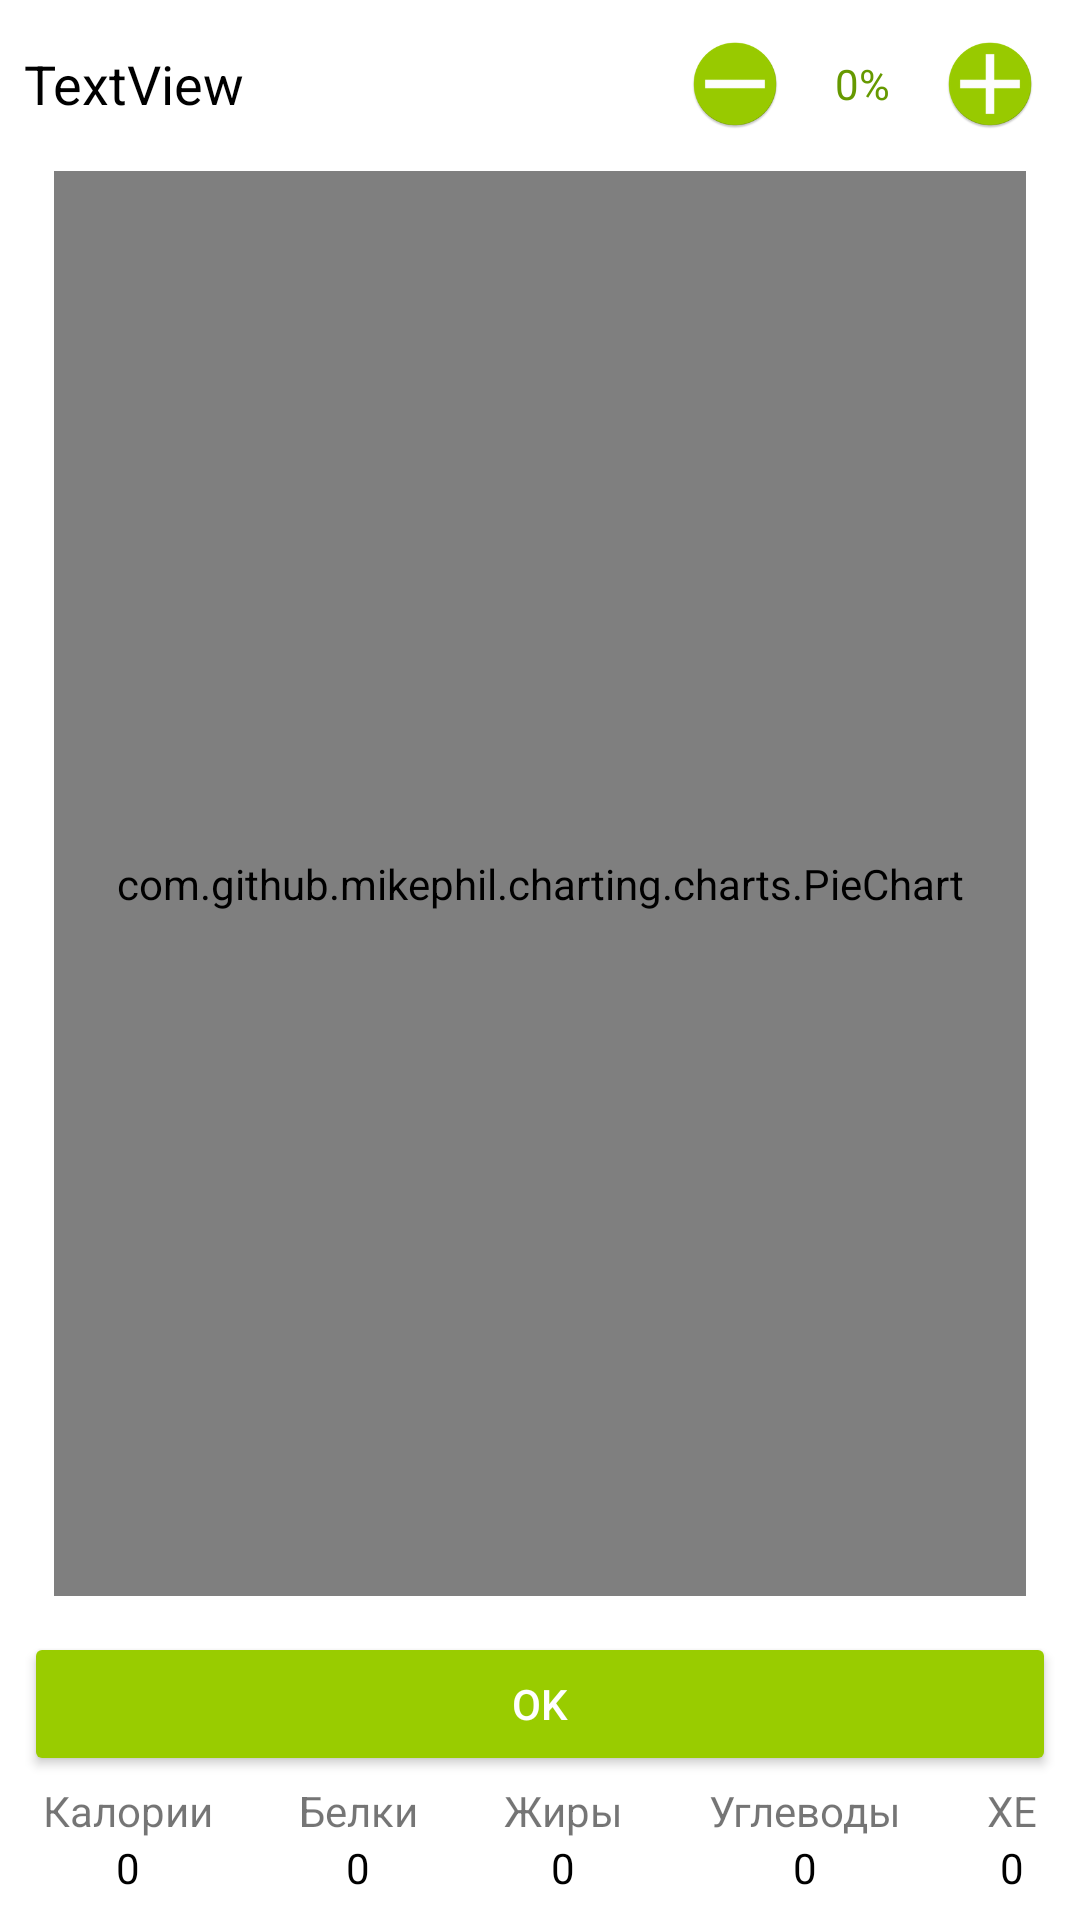

Icon bounding boxes for this 1080×1920 phone screenshot, format (x1,y1,x2,y2):
minus: (693,42,777,127)
plus: (948,42,1032,127)
